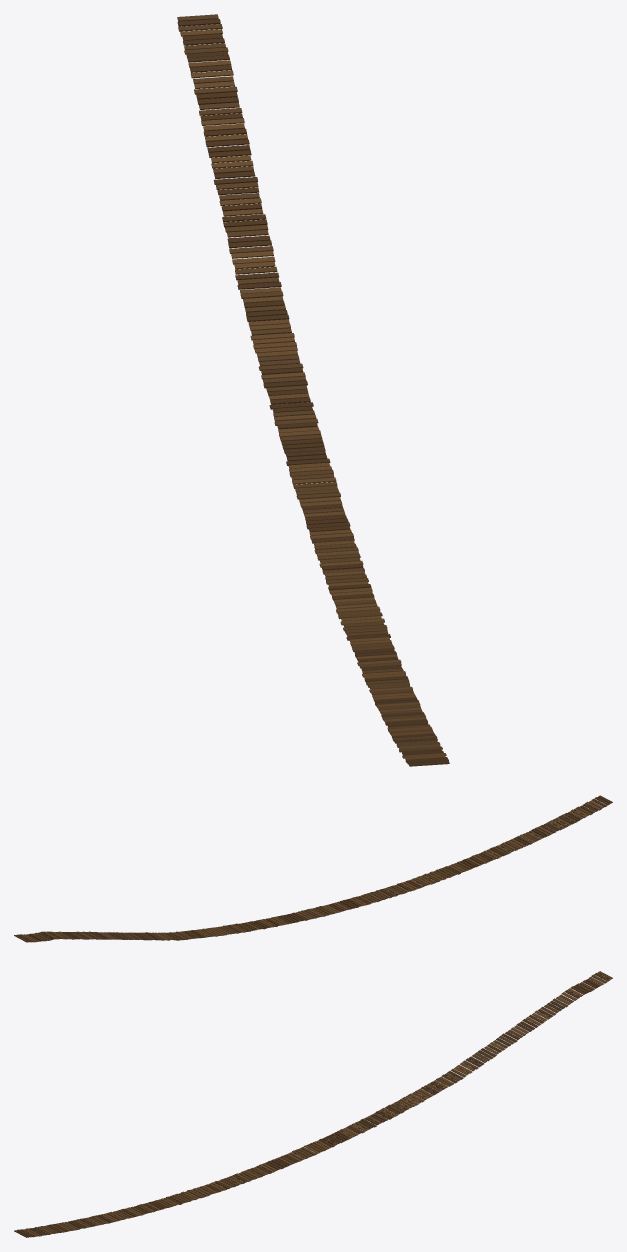
Rendered from SM_Bridge_16_17.fbx.
The picture shows the model from 3 angles, top to bottom: view 1: azimuth 30°, elevation 25°; view 2: azimuth 150°, elevation 25°; view 3: azimuth 330°, elevation 25°; orthographic projection. The views are drawn at different scales.
Parts seen in each view (by area): view 1: SM_Bridge_16_17; view 2: SM_Bridge_16_17; view 3: SM_Bridge_16_17.
Boxes of the visible parts, x1=… form: SM_Bridge_16_17: x1=177, y1=14, x2=449, y2=766; SM_Bridge_16_17: x1=14, y1=795, x2=612, y2=942; SM_Bridge_16_17: x1=14, y1=971, x2=612, y2=1237.
Bounding box in the file's own units: 31.63 × 9.65 × 77.28.
